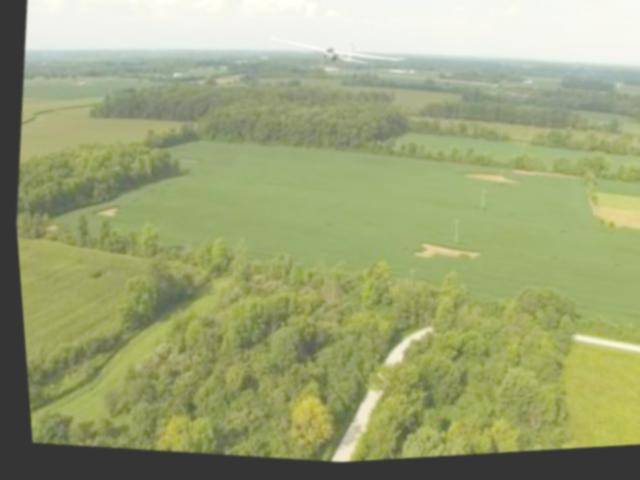uav: (261, 28, 413, 92)
